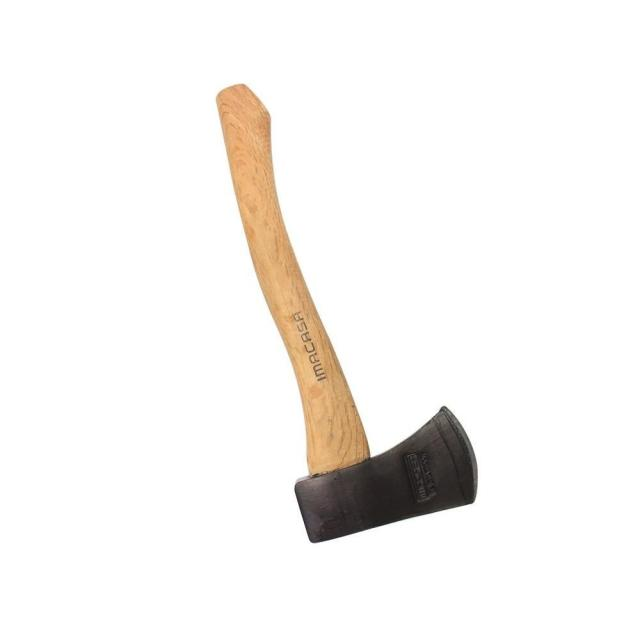Kapak: (174, 61, 482, 518)
